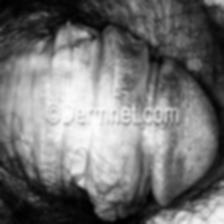Toxin: (108, 27, 145, 94), (90, 156, 128, 214)
